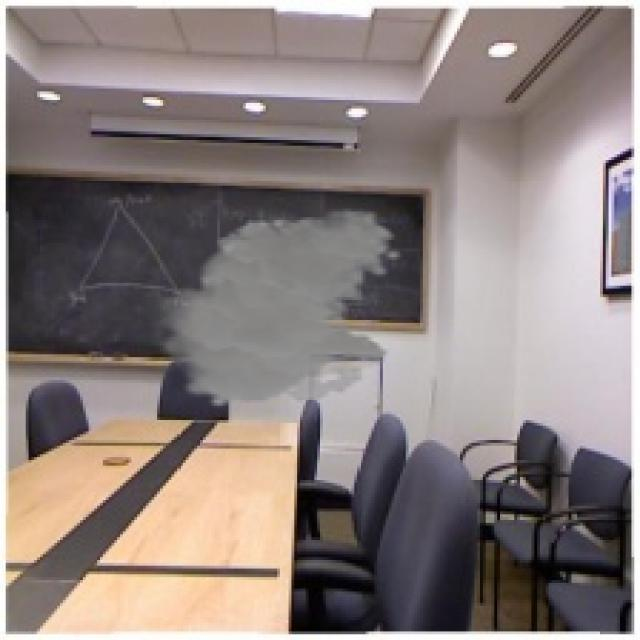Smoke: (148, 208, 403, 408)
